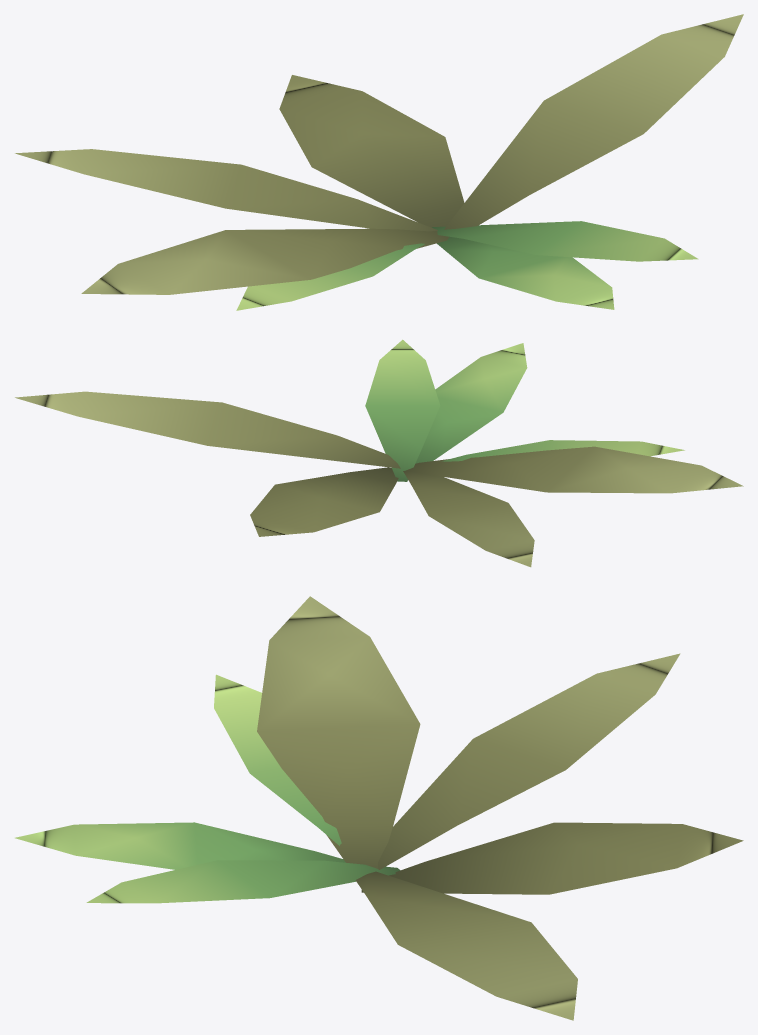
The model's file is DandelionRosette_LOD0.glb.
The picture shows the model from 3 angles, top to bottom: view 1: azimuth 30°, elevation 25°; view 2: azimuth 150°, elevation 25°; view 3: azimuth 270°, elevation 25°; orthographic projection. The views are drawn at different scales.
Parts seen in each view (by area): view 1: DandelionRosette_LOD0; view 2: DandelionRosette_LOD0; view 3: DandelionRosette_LOD0.
Part boxes in pixels (x1,y1,x2,y2): DandelionRosette_LOD0: (15, 14, 743, 310); DandelionRosette_LOD0: (15, 339, 743, 567); DandelionRosette_LOD0: (15, 596, 743, 1020).
Bounding box in the file's own units: 0.3364 × 0.0271 × 0.2418.
